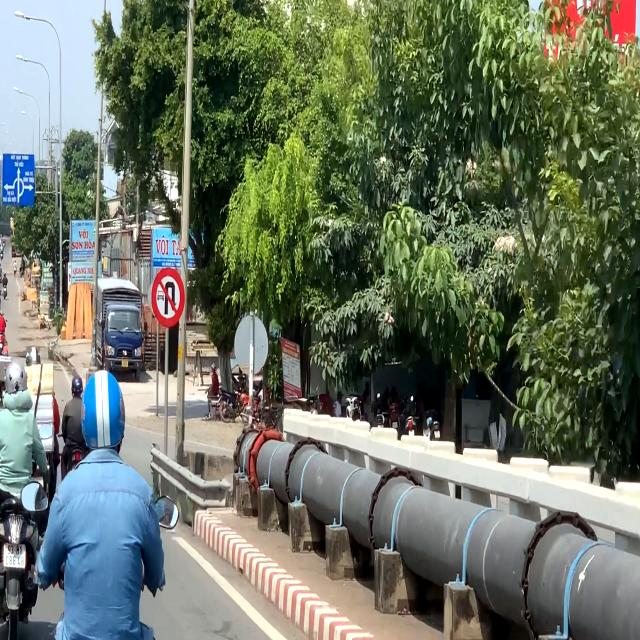P.124b: (152, 266, 185, 326)
